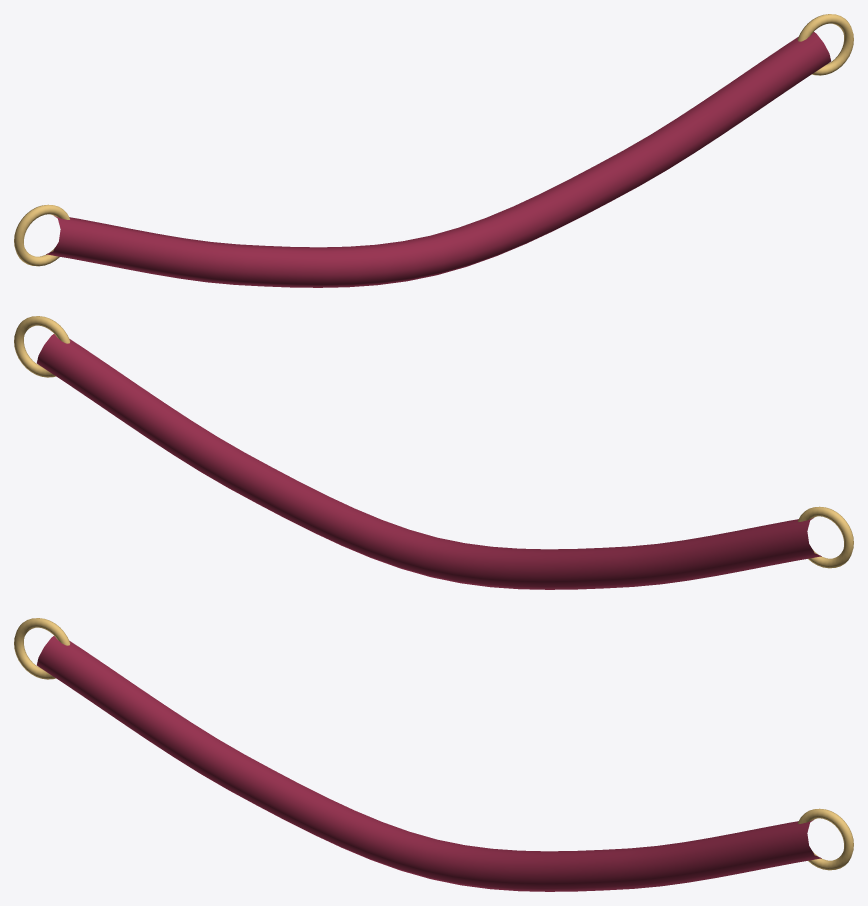
File: royal-court-and-throne-palace-velvet-rope-span-75c860af__29388.glb
3 views of the same model, one above another, from view 1: azimuth 30°, elevation 25°; view 2: azimuth 150°, elevation 25°; view 3: azimuth 330°, elevation 25° (orthographic).
Visible parts, largest first — view 1: velvet-rope-span; view 2: velvet-rope-span; view 3: velvet-rope-span.
Boxes of the visible parts, <box> form: velvet-rope-span: <box>14,14,853,287</box>; velvet-rope-span: <box>14,316,853,589</box>; velvet-rope-span: <box>14,618,853,891</box>.
Size of the model in its own units: 1.52 by 0.2824 by 0.0641.
